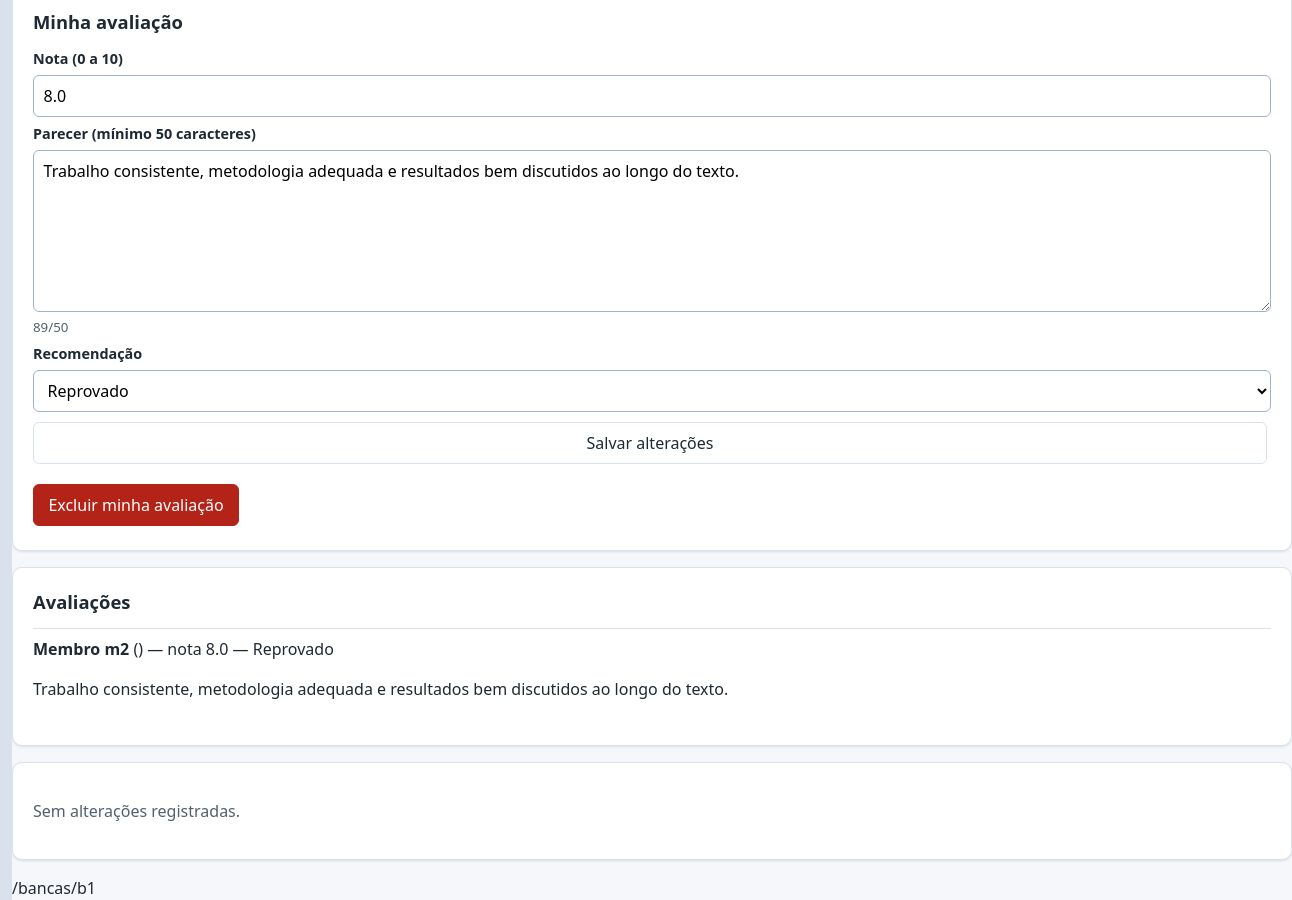
it: Detalhe da banca › avaliador exclui a própria avaliação enquanto o resultado está aberto
(page scrolled)
Step 1. Click the button "Excluir minha avaliação" → (136, 505), box x1=33 y1=484 x2=239 y2=526
(page scrolled)
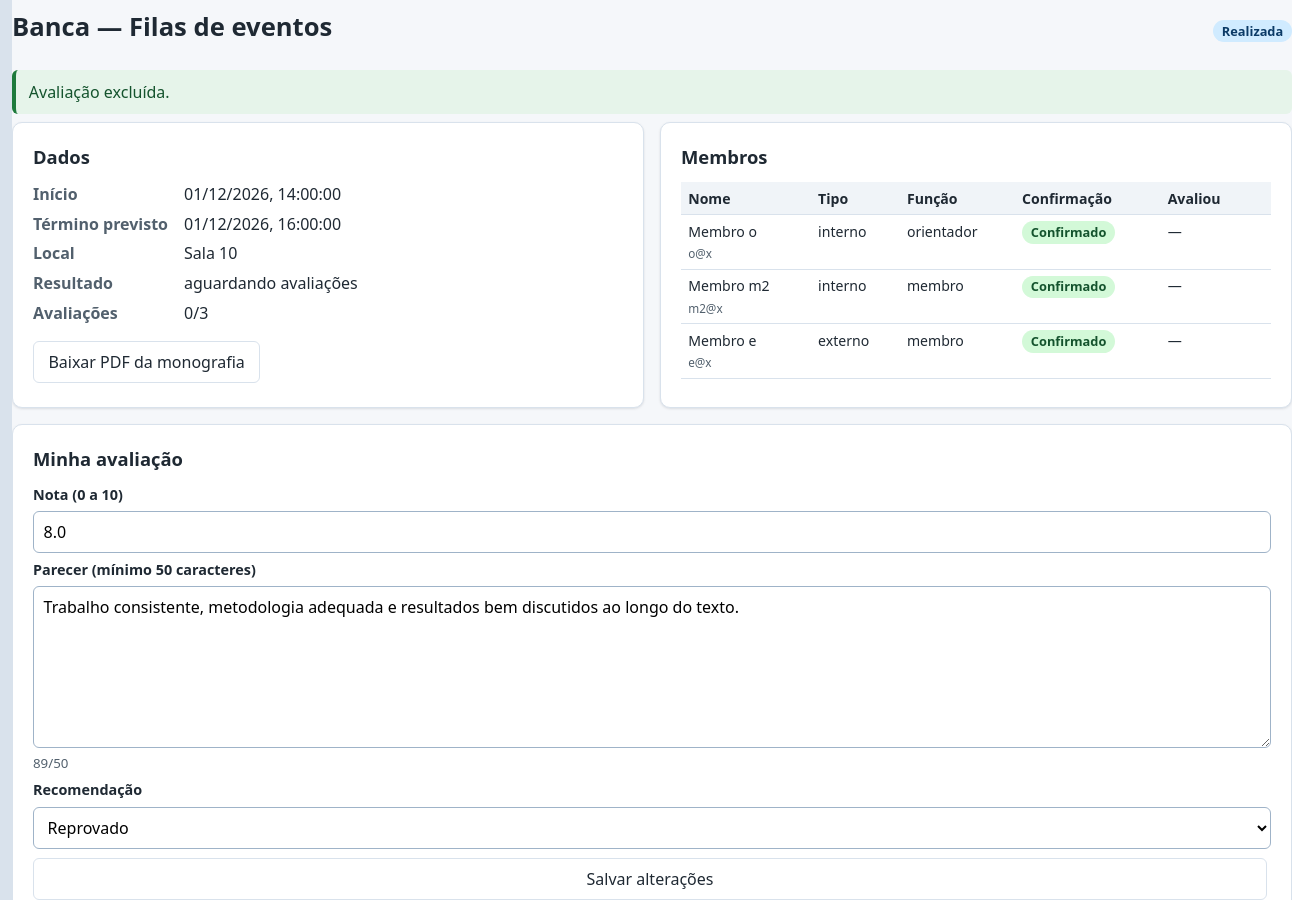
Result: the text "Avaliação excluída." is shown at x1=12 y1=70 x2=1291 y2=114
